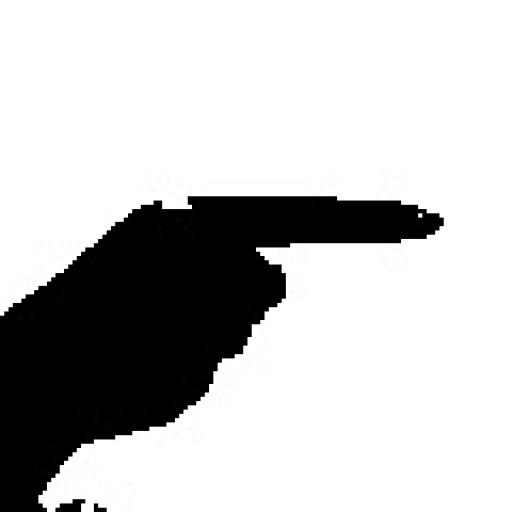index_right: (0, 193, 444, 410)
